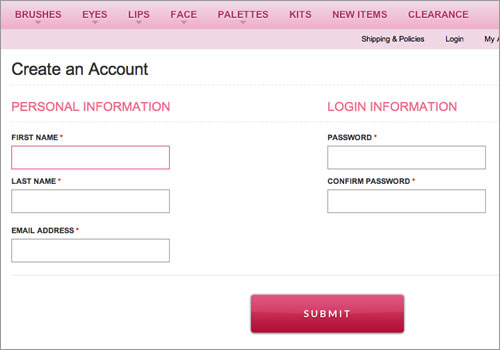_form_: (1, 2, 280, 350), (232, 83, 494, 350)
button: (250, 294, 404, 334)
field: (325, 143, 487, 170), (325, 187, 487, 214), (9, 187, 170, 214), (9, 144, 171, 170), (11, 237, 171, 263)
field_with_label: (7, 177, 173, 216), (323, 133, 488, 172), (323, 176, 488, 215), (7, 133, 171, 171), (9, 226, 172, 264)
